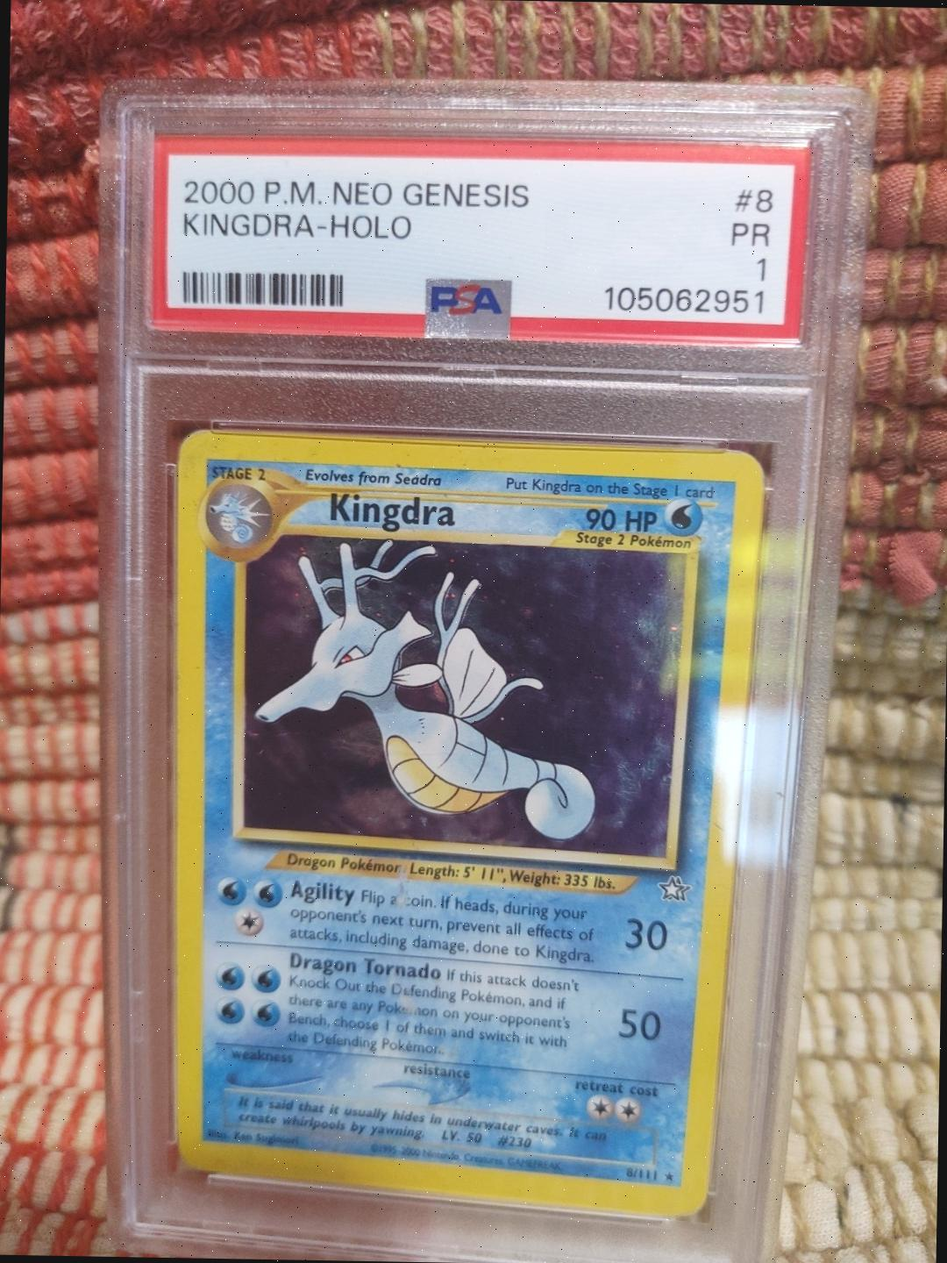card-2UtV: (178, 428, 765, 1217)
